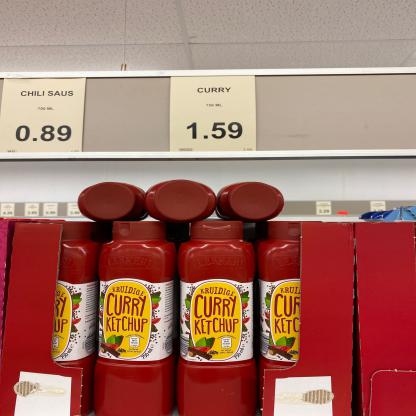prtg: (171, 77, 257, 154), (1, 79, 87, 155)
